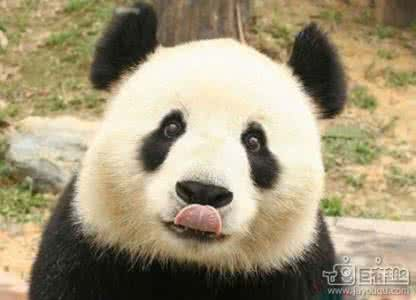panda: (34, 10, 351, 300)
